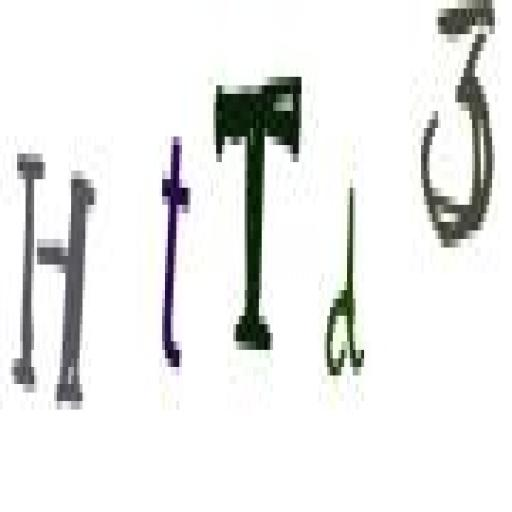3: (418, 0, 498, 256)
H: (12, 135, 98, 429)
T: (212, 77, 302, 364)
d: (318, 170, 370, 392)
t: (158, 128, 192, 385)
